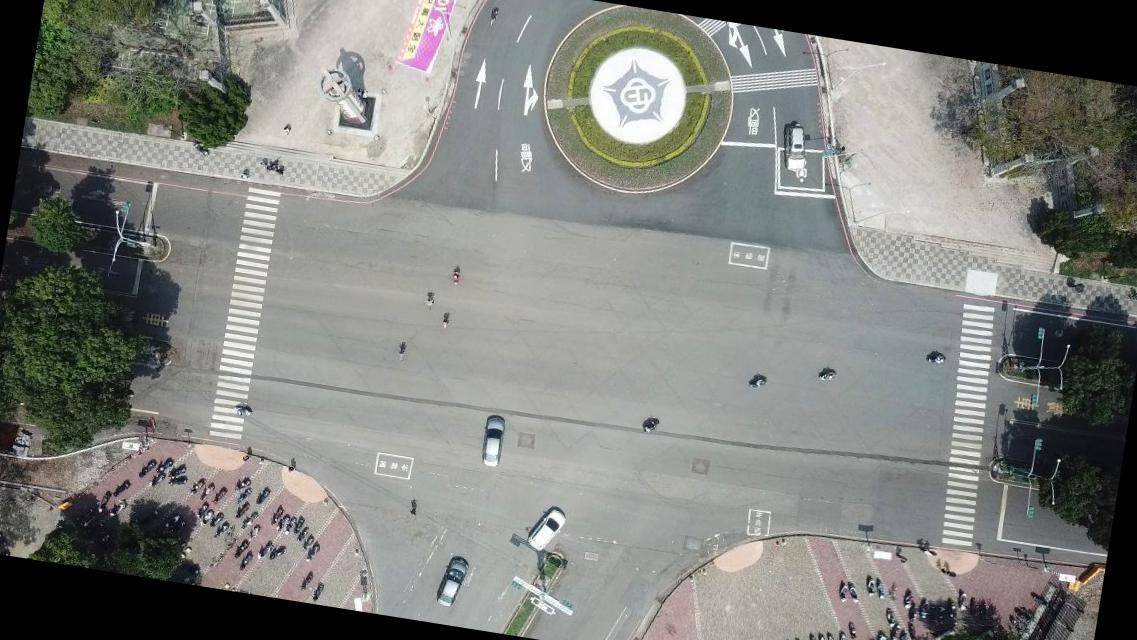vehicle: (434, 552, 471, 609), (526, 502, 568, 552), (780, 120, 813, 174), (478, 412, 508, 469)
